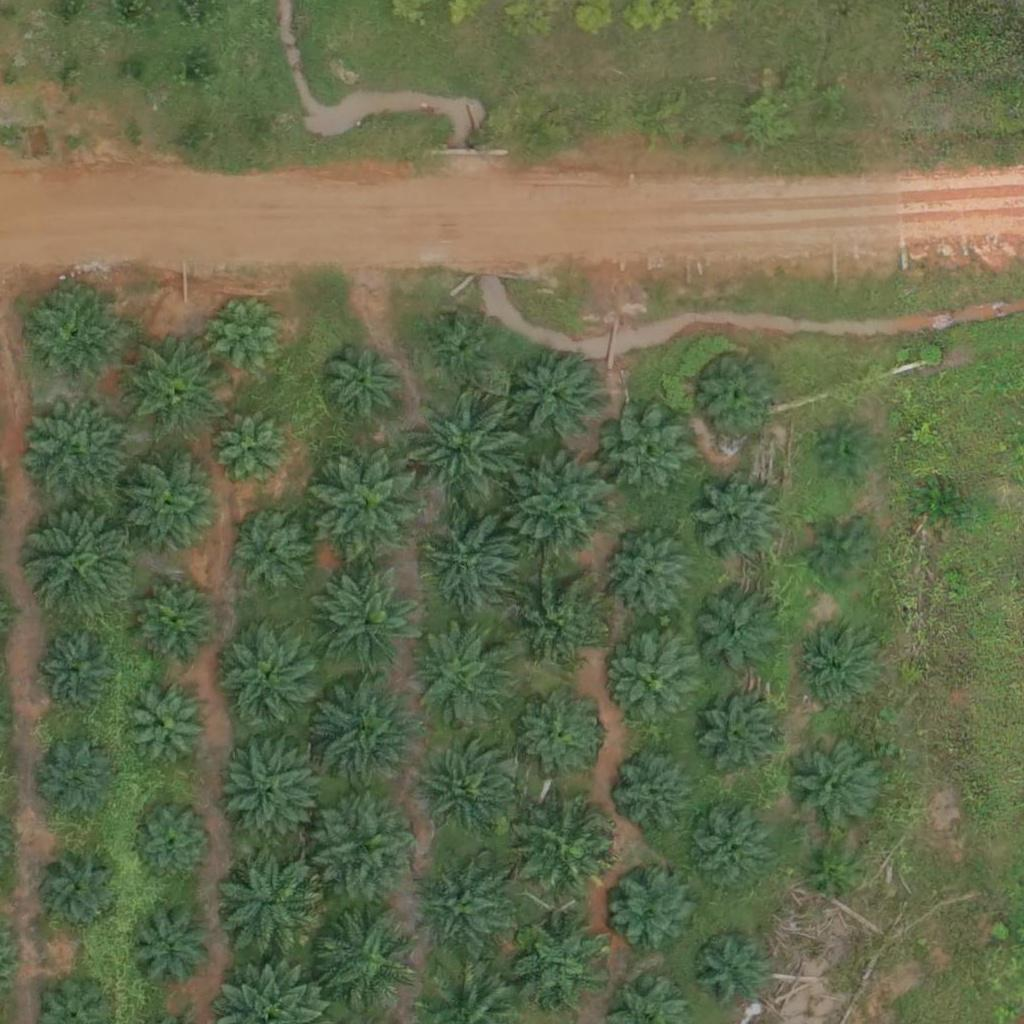Kelapa_Sawit: (410, 381, 535, 506), (25, 398, 138, 512), (31, 505, 144, 619), (312, 445, 425, 558), (317, 564, 430, 677), (311, 673, 424, 786), (311, 791, 423, 905), (214, 849, 326, 963), (26, 285, 126, 386), (124, 336, 224, 437), (425, 511, 525, 612), (415, 626, 515, 727), (415, 747, 515, 848), (513, 457, 613, 558), (505, 573, 605, 674), (519, 796, 619, 897), (514, 917, 614, 1018), (124, 456, 224, 556), (221, 623, 321, 723), (224, 737, 324, 837), (418, 858, 518, 958), (314, 909, 414, 1009), (611, 635, 699, 724), (514, 355, 602, 443), (515, 690, 603, 778), (611, 747, 699, 835), (610, 867, 698, 955), (794, 622, 882, 710), (321, 341, 408, 430), (209, 294, 296, 382), (126, 906, 213, 994), (132, 800, 219, 888), (41, 845, 128, 933), (605, 409, 692, 497), (607, 534, 694, 622), (695, 476, 782, 564), (693, 589, 780, 677), (693, 691, 780, 779), (687, 809, 774, 897), (794, 741, 881, 829), (700, 355, 775, 431), (45, 632, 120, 708), (43, 746, 118, 822), (137, 585, 212, 661), (132, 689, 207, 765), (239, 518, 314, 594), (214, 411, 289, 486), (696, 934, 771, 1009), (811, 521, 873, 584), (434, 318, 496, 381), (912, 475, 974, 537), (807, 851, 857, 902), (821, 431, 871, 481)
